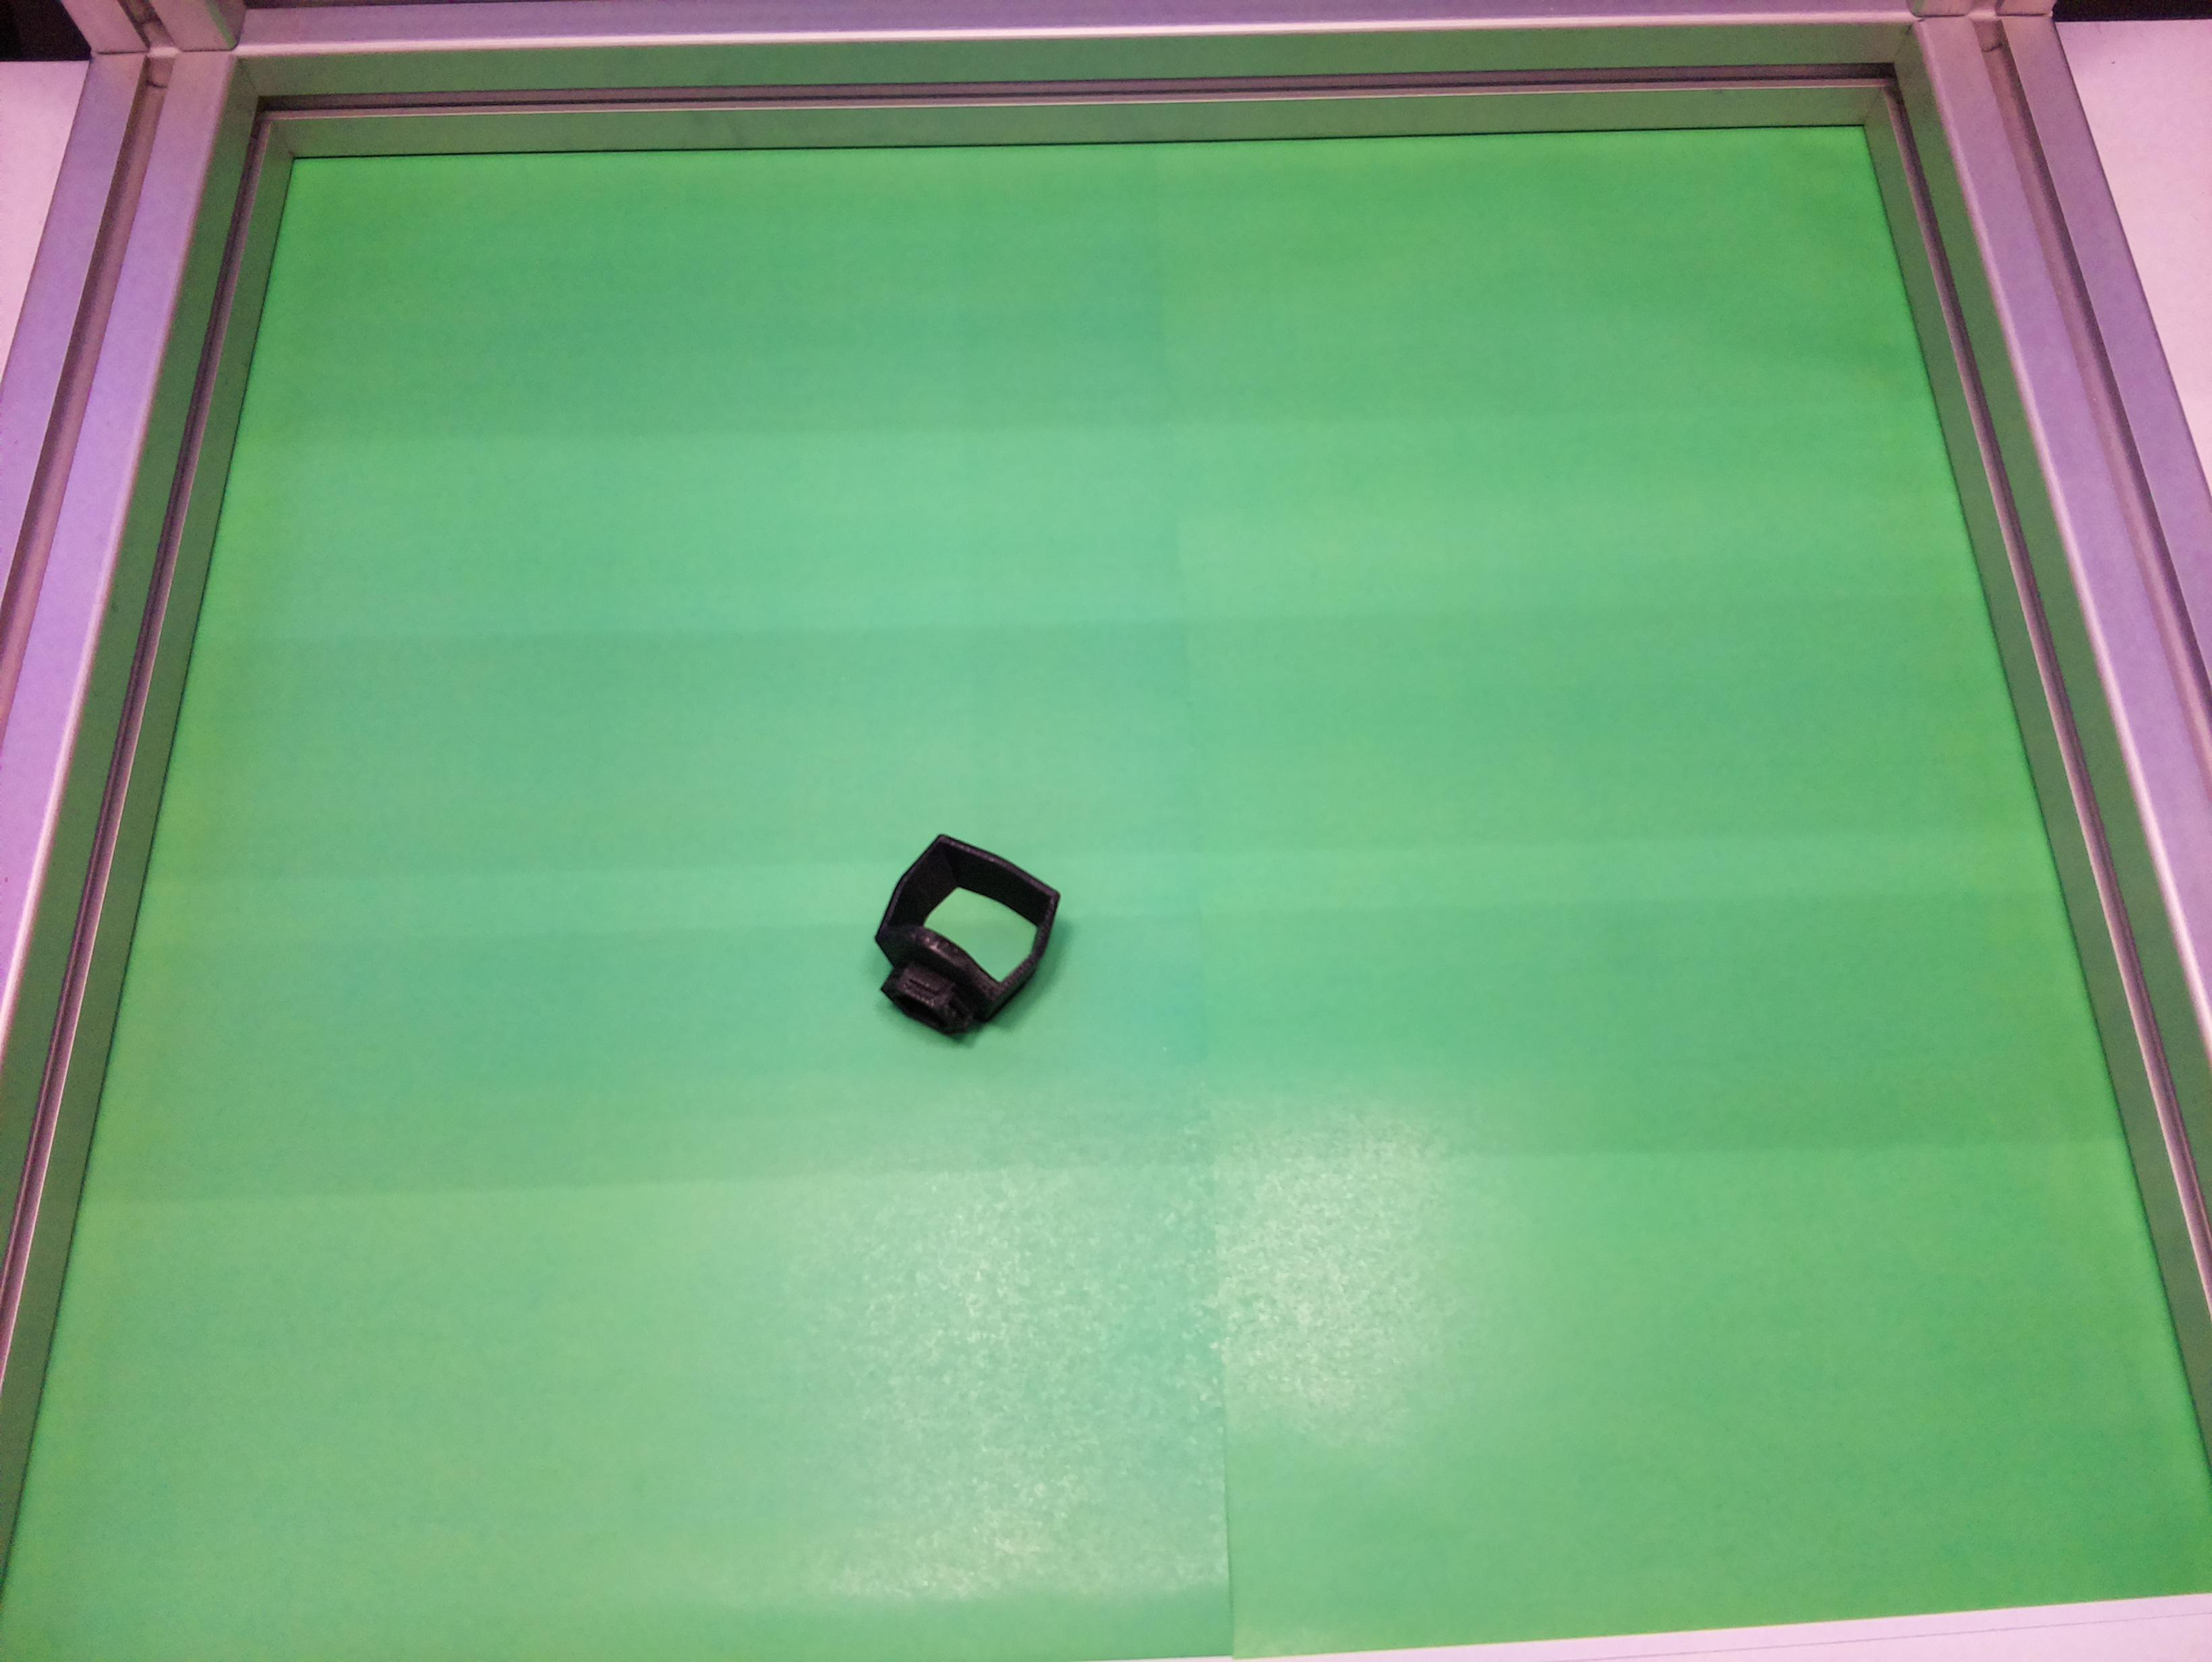scissor_holder: (848, 822, 1072, 1058)
